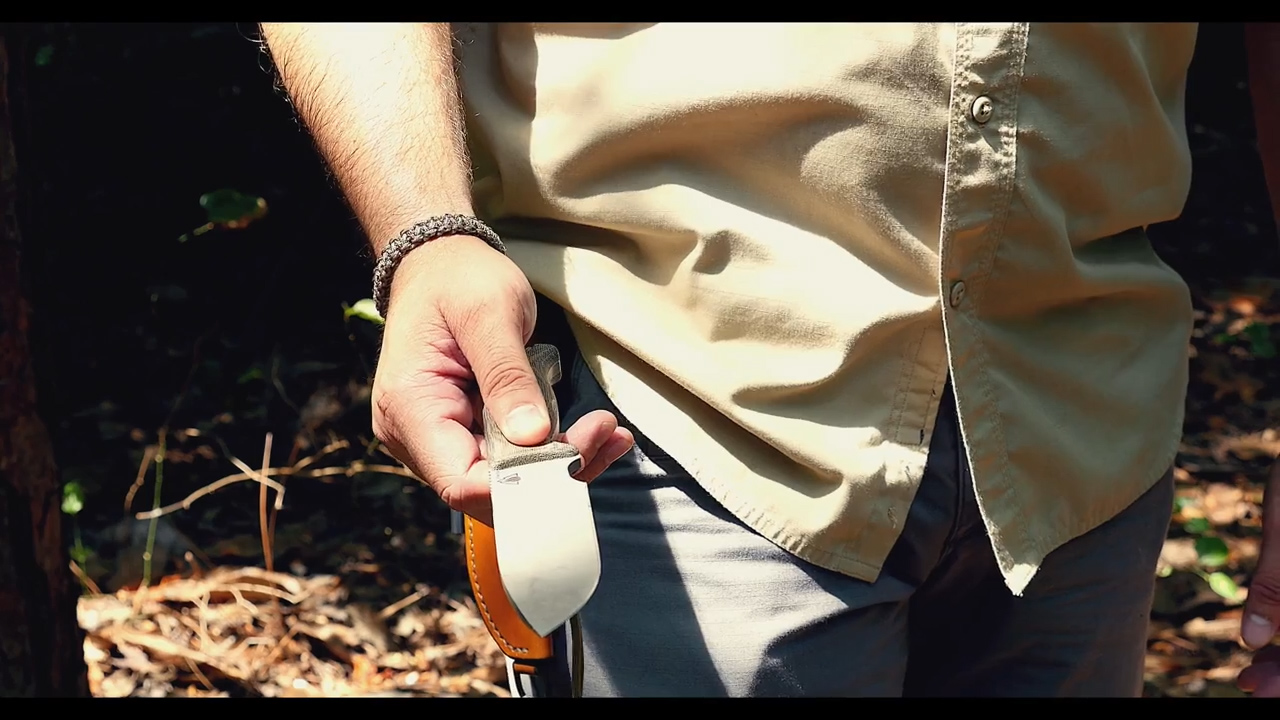knife: (405, 358, 638, 655)
